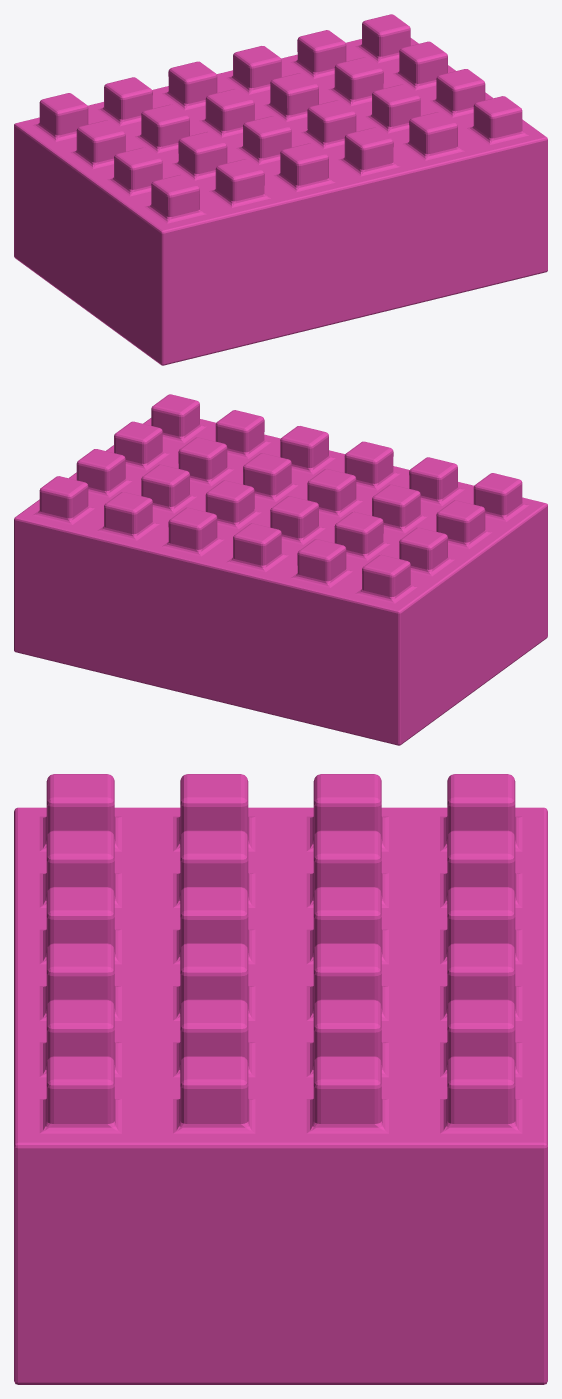
Rendered from Building block6.fbx.
3 renders of one model, top to bottom at view 1: azimuth 30°, elevation 25°; view 2: azimuth 150°, elevation 25°; view 3: azimuth 270°, elevation 25°, orthographic. The views are drawn at different scales.
Visible parts, largest first — view 1: Cube.005; view 2: Cube.005; view 3: Cube.005.
Boxes of the visible parts, left/top/right/bottom form: Cube.005: left=14, top=14, right=547, bottom=365; Cube.005: left=14, top=394, right=547, bottom=745; Cube.005: left=14, top=774, right=547, bottom=1384.
Bounding box in the file's own units: 120 × 47.96 × 80.
